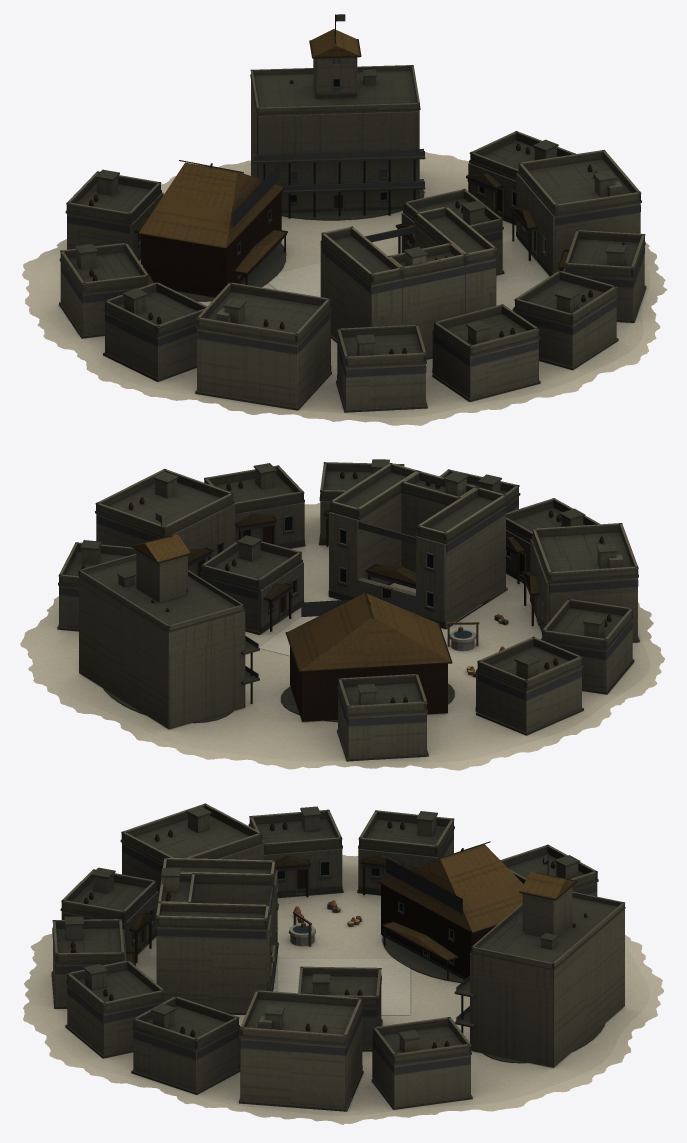
Rendered from gunpowder-town-medium-b-eastafrica.glb.
The picture shows the model from 3 angles, top to bottom: view 1: azimuth 30°, elevation 25°; view 2: azimuth 150°, elevation 25°; view 3: azimuth 270°, elevation 25°; orthographic projection.
Visible parts, largest first — view 1: LOD0; view 2: LOD0; view 3: LOD0.
Boxes of the visible parts, bbox=[...] form: LOD0: bbox=[22, 14, 667, 425]; LOD0: bbox=[20, 459, 664, 770]; LOD0: bbox=[23, 803, 663, 1124].
Size of what is drawn, in the model's own units: 5.94 by 1.79 by 5.96.
Materials: 3 (3 with a texture image).
